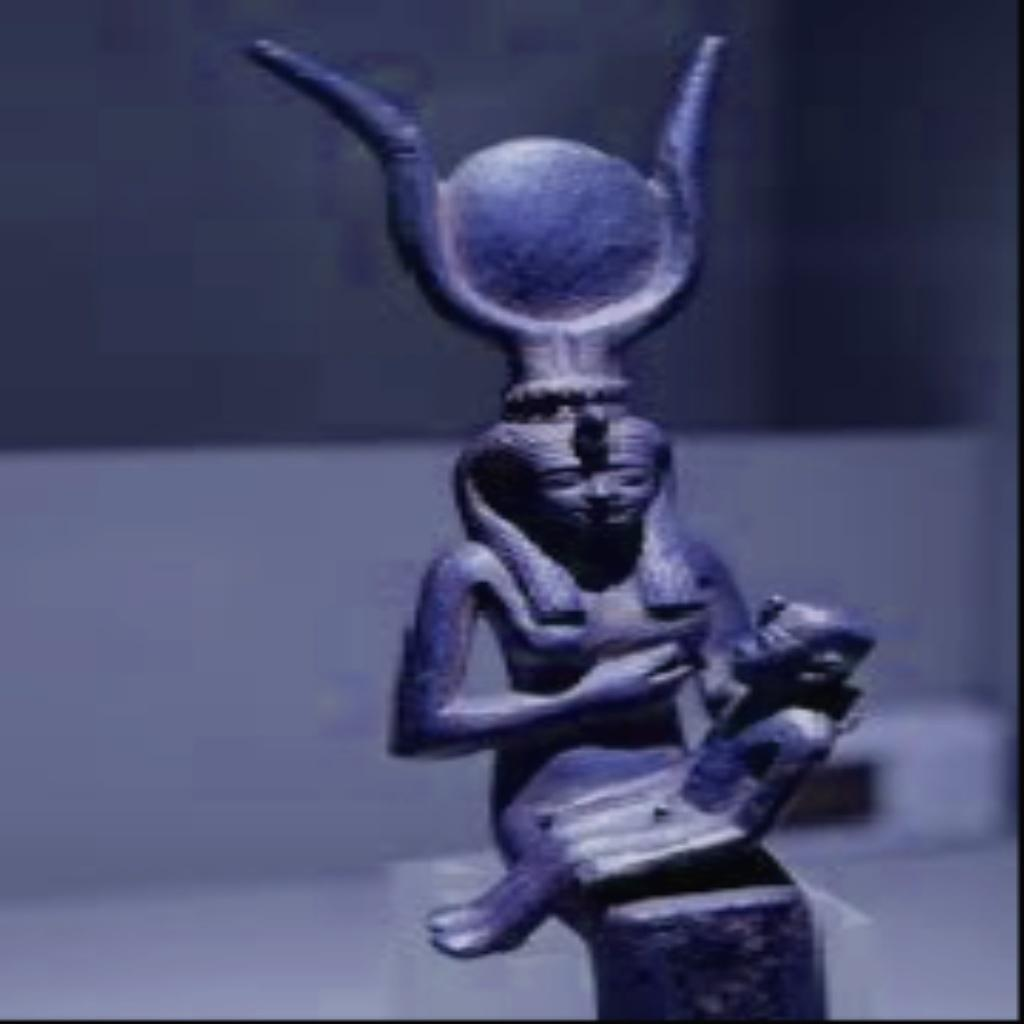Isis with her child: (222, 26, 888, 1016)
